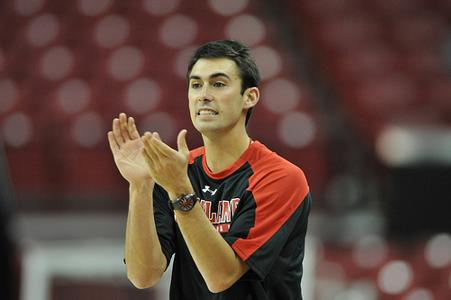person: (105, 41, 317, 298)
